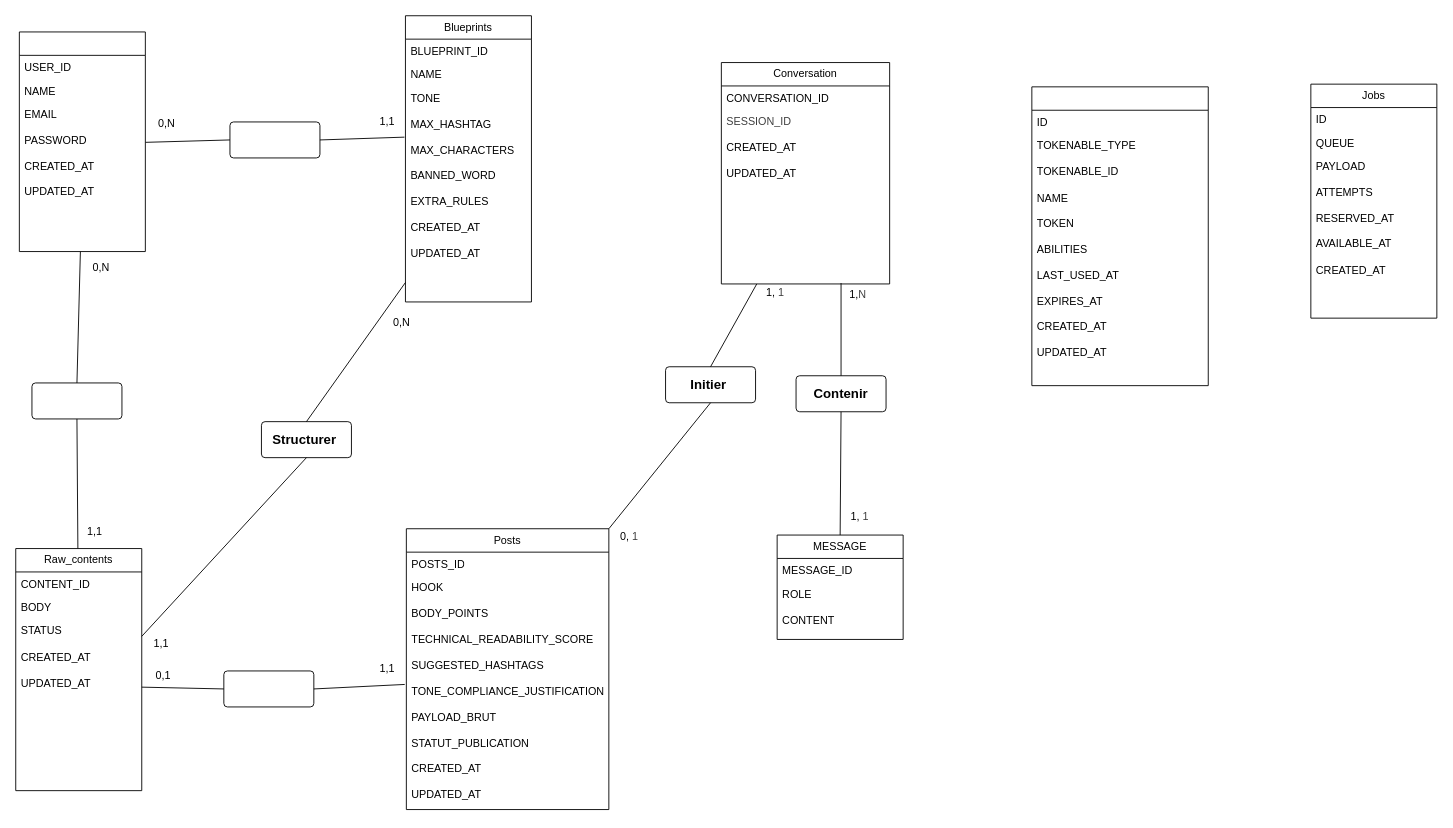
Image size: 1453x828. Some labels were removed from this diagram. Here are the shapes that lost their labels. From the top down, the box of each, then its label:
(18, 31, 145, 252): Users
(229, 121, 320, 158): Créer
(1031, 86, 1208, 386): Personal_access_tokens
(31, 382, 122, 419): Soumettre
(223, 670, 314, 707): Générer
